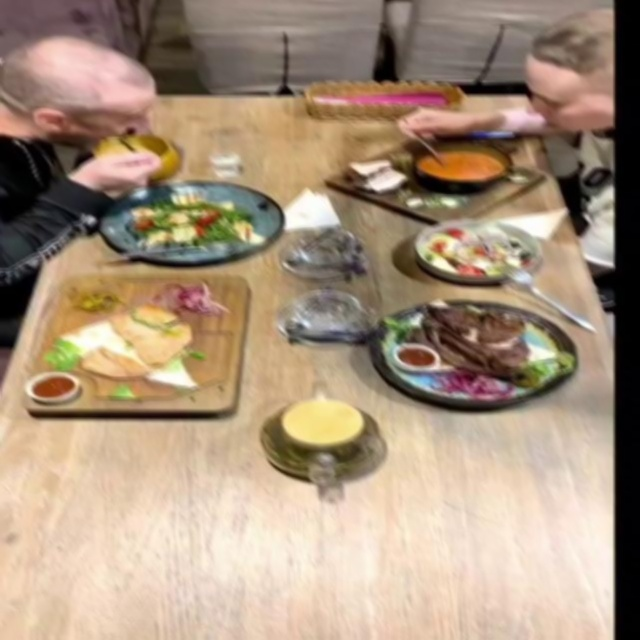meat: (19, 276, 253, 425), (367, 300, 579, 408)
salad: (97, 183, 283, 265), (413, 220, 545, 284)
soup: (323, 137, 549, 227), (93, 136, 180, 183)
tea: (244, 374, 406, 500)
